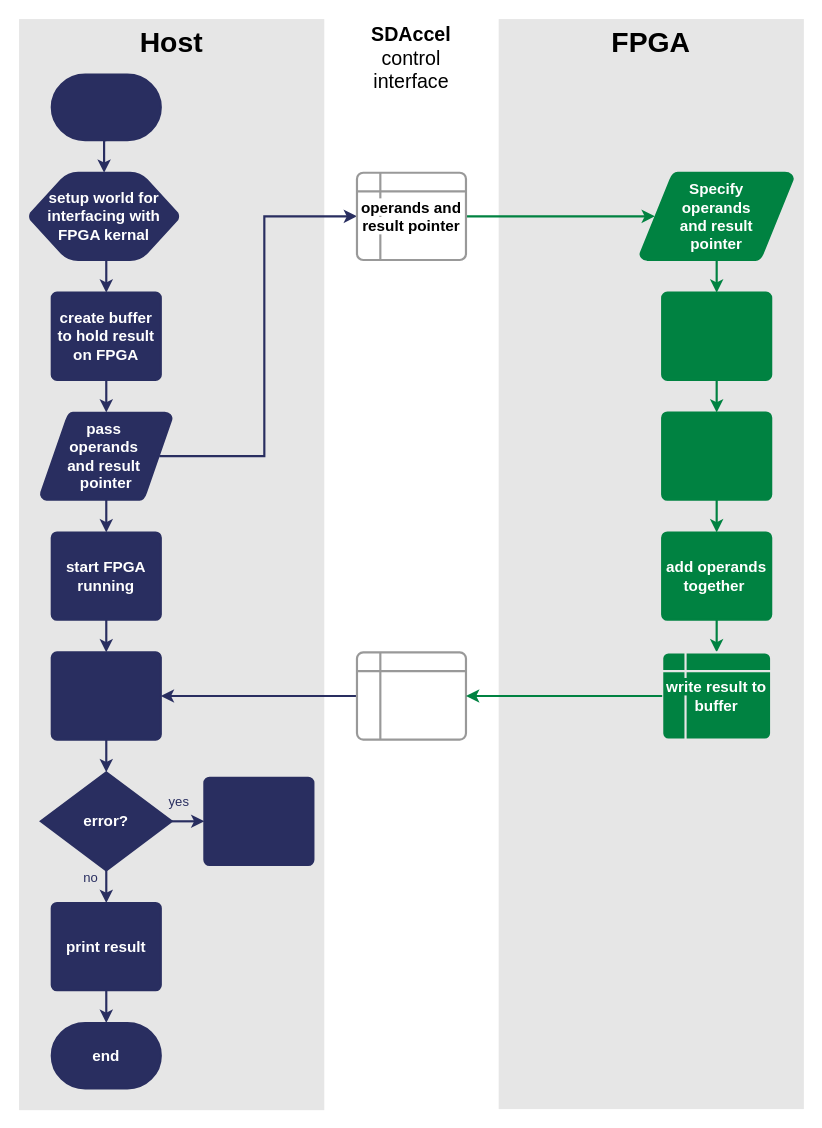
The diagram is 822 pixels wide and 1128 high, and some of its shapes have lost their labels. Each missing label, with the centre of its shape:
"disable read from memory" goes at pixel 716 455.
"print error message" goes at pixel 258 820.
"read result, decode and error-check" goes at pixel 105 695.
"result" goes at pixel 411 695.
"setup channels to interact with memory" goes at pixel 716 335.
"start" goes at pixel 105 107.
